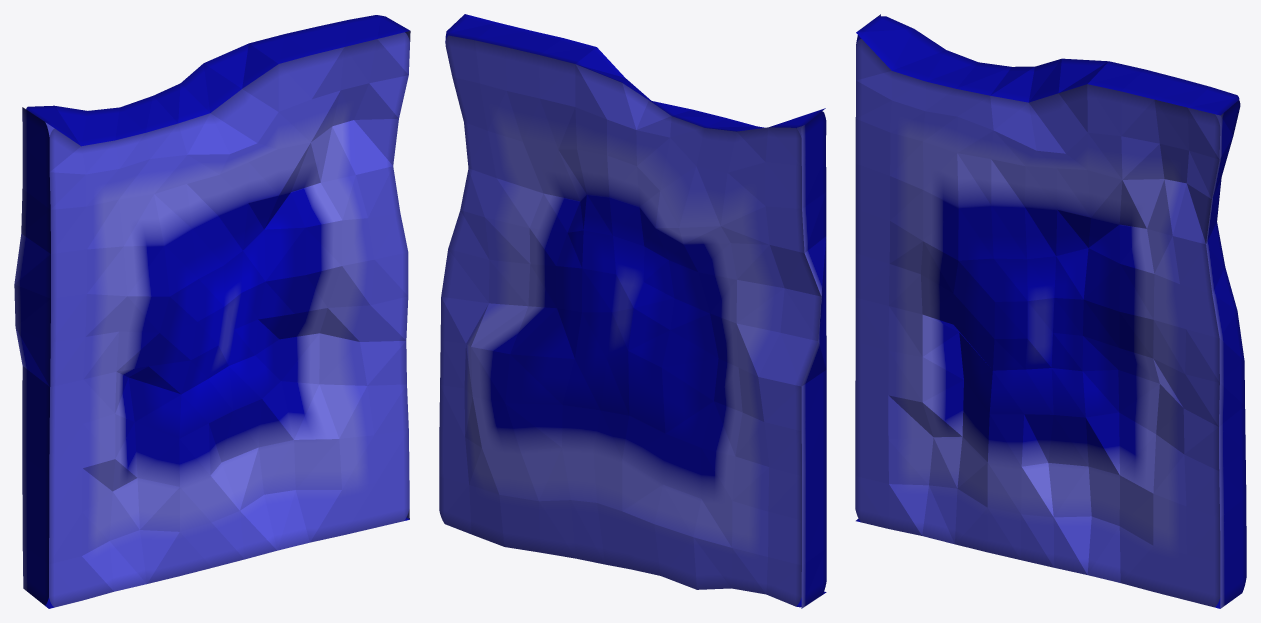
The model's file is blue_moongate_0777x08.obj.
3 renders of one model, left to right at view 1: azimuth 30°, elevation 25°; view 2: azimuth 150°, elevation 25°; view 3: azimuth 330°, elevation 25°, orthographic.
Visible parts, largest first — view 1: blue_moongate_0777x08; view 2: blue_moongate_0777x08; view 3: blue_moongate_0777x08.
Boxes of the visible parts, bbox=[...] form: blue_moongate_0777x08: bbox=[14, 15, 410, 608]; blue_moongate_0777x08: bbox=[439, 14, 826, 608]; blue_moongate_0777x08: bbox=[855, 14, 1246, 608].
Bounding box in the file's own units: 4.29 × 5.42 × 0.8405.
